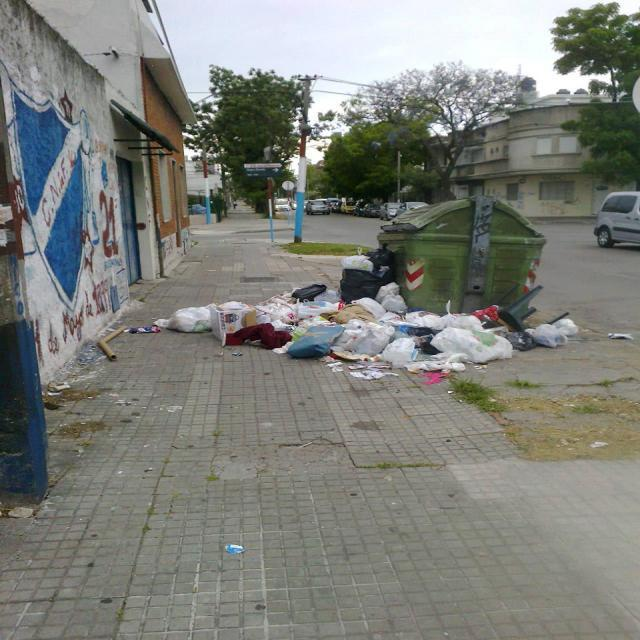garbage: (209, 280, 522, 386)
